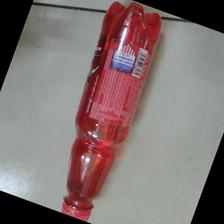Sting: (59, 2, 163, 224)
